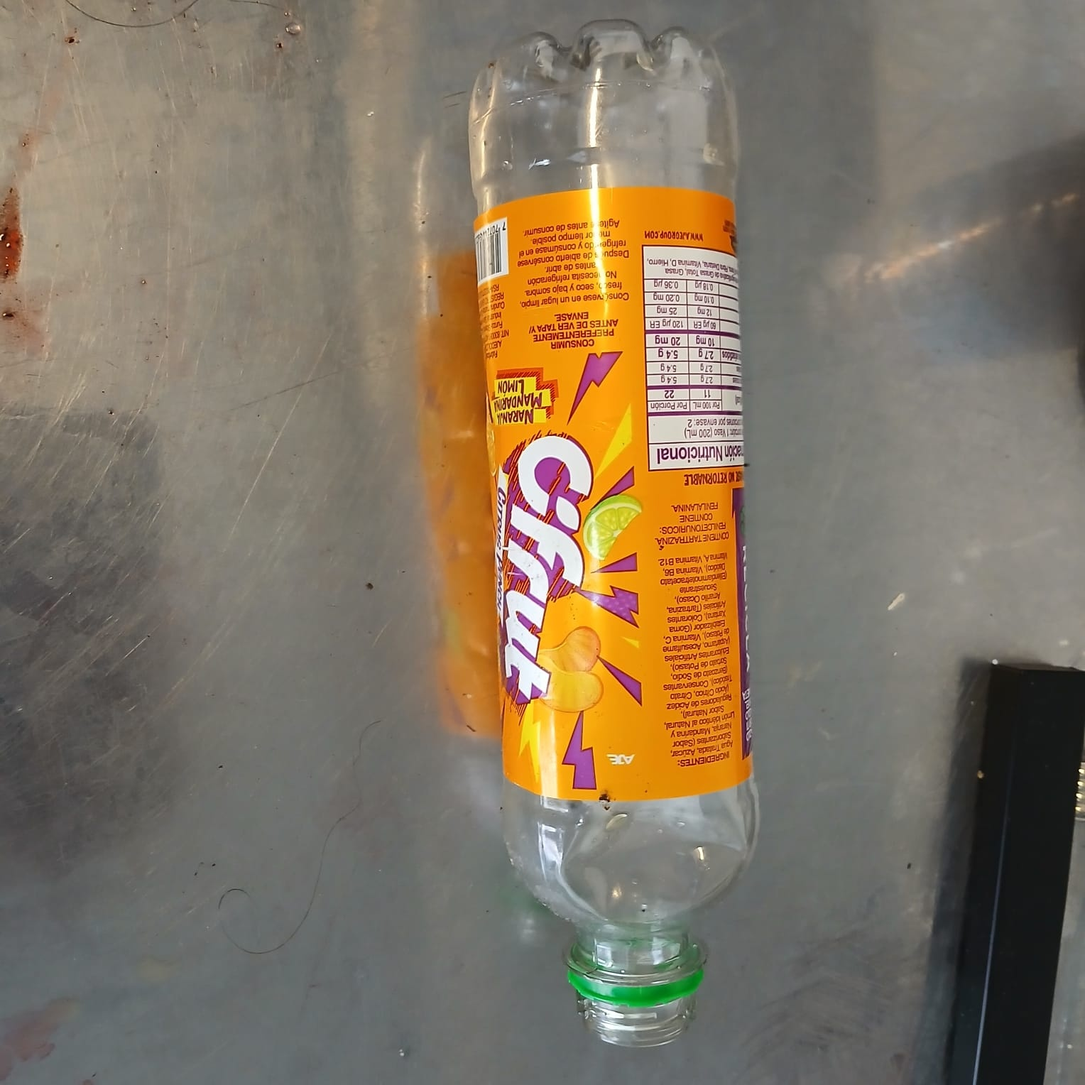Plastico: (472, 21, 760, 1047)
